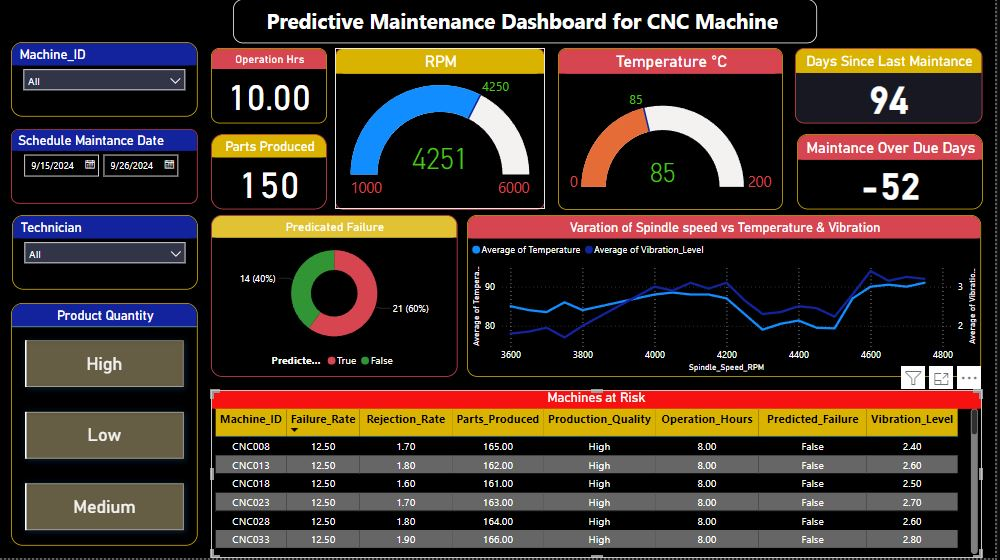

The dashboard page shown, as its layout file describes it:
{"tool":"powerbi","page":{"name":"Page 2","canvas":[1280,720],"ordinal":0},"visuals":[{"type":"card","title":"Operation Hrs","fields":{"Values":["predective_model_merged_data.Operation_Hours"]},"box":[272.6,63.7,149.4,96.9],"z":0},{"type":"card","title":"Maintance Over Due Days","fields":{"Values":["predective_model_merged_data.Maintenance_overdue_days"]},"box":[1025.4,174.4,239.4,96.9],"z":1000},{"type":"card","title":"Successful Builds","fields":{"Values":["AzureDashboard.Succesful Build"]},"box":[1007.4,514.8,239.4,96.9],"z":2000},{"type":"card","title":"Days Since Last Maintance","fields":{"Values":["predective_model_merged_data.Time_Since_Last_Maintenance"]},"box":[1024,63.7,240.8,96.9],"z":3000},{"type":"donutChart","title":"Predicated Failure","fields":{"Category":["predective_model_merged_data.Predicted_Failure"],"Y":["predective_model_merged_data.Technician_Name_x"]},"box":[272.6,279.5,316.9,207.6],"z":4000},{"type":"card","title":"Parts Produced","fields":{"Values":["predective_model_merged_data.Parts_Produced"]},"box":[272.6,174.4,149.4,96.9],"z":5000},{"type":"slicer","title":"Schedule Maintance Date","fields":{"Values":["predective_model_merged_data.Next_Schedule_Maintenance_Date"]},"box":[16,168,240,96],"z":6000},{"type":"slicer","title":"Machine_ID","fields":{"Values":["predective_model_merged_data.Machine_ID"]},"box":[16,56,240,96],"z":7000},{"type":"lineChart","title":"Varation of Spindle speed vs Temperature & Vibration","fields":{"Category":["predective_model_merged_data.Spindle_Speed_RPM"],"Y":["predective_model_merged_data.Temperature"],"Y2":["predective_model_merged_data.Vibration_Level"]},"box":[601.9,279.5,661.4,207.6],"z":8000},{"type":"columnChart","title":"Varation of Spindle speed vs Temperature","fields":{"Category":["predective_model_merged_data.Predicted_Failure"]},"box":[283.7,527.2,495.4,192.3],"z":9000},{"type":"tableEx","title":"Machines at Risk","fields":{"Values":["predective_model_merged_data.Machine_ID","predective_model_merged_data.Failure_Rate","predective_model_merged_data.Rejection_Rate","predective_model_merged_data.Parts_Produced","predective_model_merged_data.Production_Quality","predective_model_merged_data.Operation_Hours","predective_model_merged_data.Predicted_Failure","predective_model_merged_data.Vibration_Level"]},"box":[272.6,503.7,990.8,215.9],"z":10000},{"type":"advancedSlicerVisual","title":"Product Quantity","fields":{"Values":["predective_model_merged_data.Production_Quality"]},"box":[16,392,240,312],"z":11000},{"type":"textbox","box":[301,1,750.9,56.6],"z":12000},{"type":"gauge","fields":{"Y":["predective_model_merged_data.Spindle_Speed_RPM"]},"box":[431.7,63.7,269.8,207.6],"z":13000},{"type":"gauge","fields":{"Y":["predective_model_merged_data.Temperature"]},"box":[718.2,63.7,289.2,207.6],"z":14000},{"type":"slicer","title":"Technician","fields":{"Values":["predective_model_merged_data.Machine_ID"]},"box":[16.5,279.4,239.5,96.3],"z":15000}]}

Visuals, with their boxes in screenshot pixels (x1, y1, x2, y2), scaled from the page's 1280x720 canvas onto the 1000x560 screenshot:
"Operation Hrs" card: 213:50:330:125
"Maintance Over Due Days" card: 801:136:988:211
"Successful Builds" card: 787:400:974:476
"Days Since Last Maintance" card: 800:50:988:125
"Predicated Failure" donutChart: 213:217:461:379
"Parts Produced" card: 213:136:330:211
"Schedule Maintance Date" slicer: 12:131:200:205
"Machine_ID" slicer: 12:44:200:118
"Varation of Spindle speed vs Temperature & Vibration" lineChart: 470:217:987:379
"Varation of Spindle speed vs Temperature" columnChart: 222:410:609:559
"Machines at Risk" tableEx: 213:392:987:559
"Product Quantity" advancedSlicerVisual: 12:305:200:548
textbox: 235:1:822:45
gauge - predective_model_merged_data.Spindle_Speed_RPM: 337:50:548:211
gauge - predective_model_merged_data.Temperature: 561:50:787:211
"Technician" slicer: 13:217:200:292
